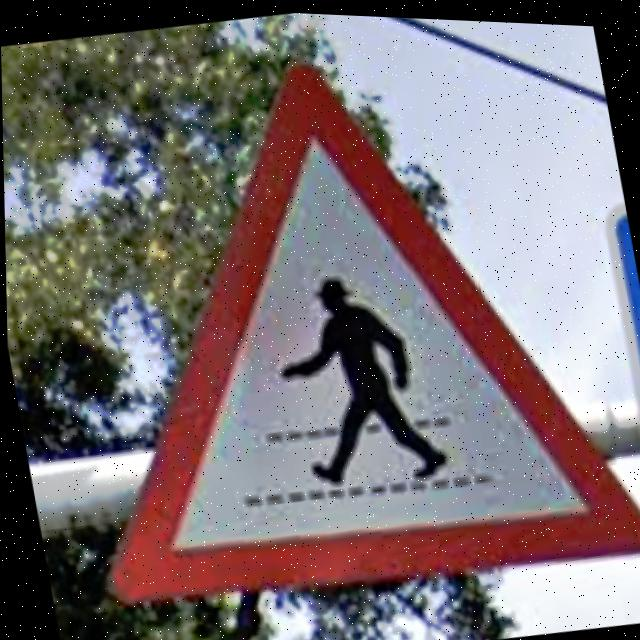pedestriancross: (107, 60, 640, 600)
